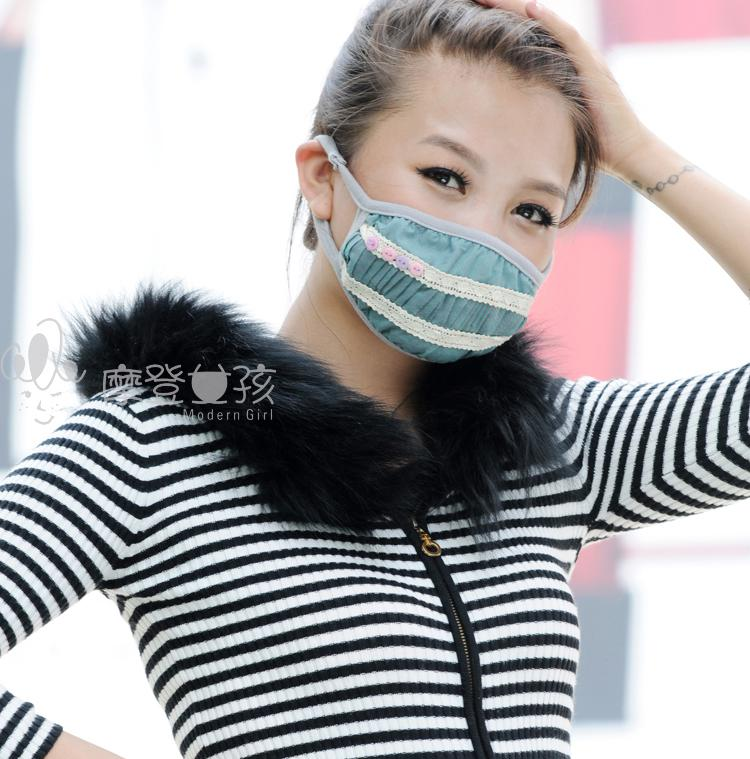OK: (341, 122, 576, 357)
